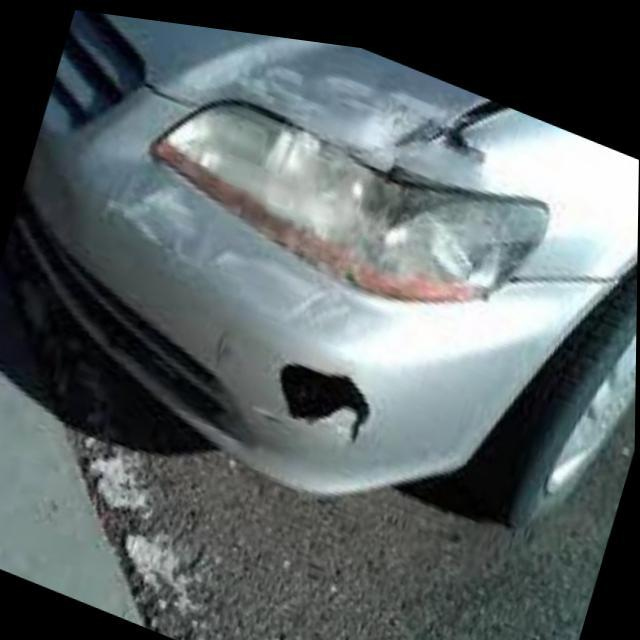crack: (266, 329, 393, 447)
dislocated part: (386, 82, 529, 155)
lamp broken: (151, 92, 551, 289)
